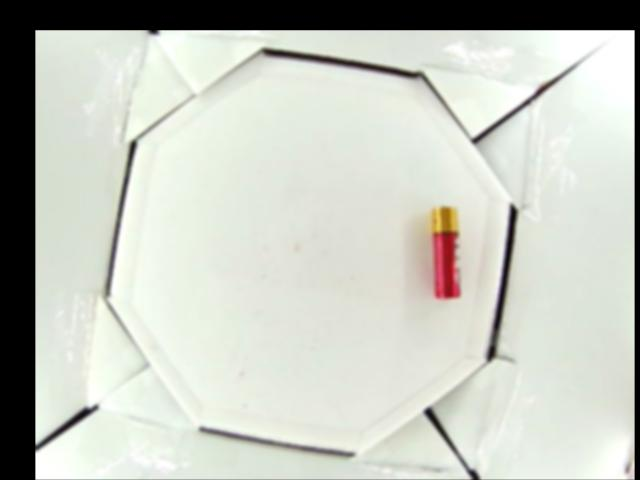Battery: (431, 205, 460, 299)
